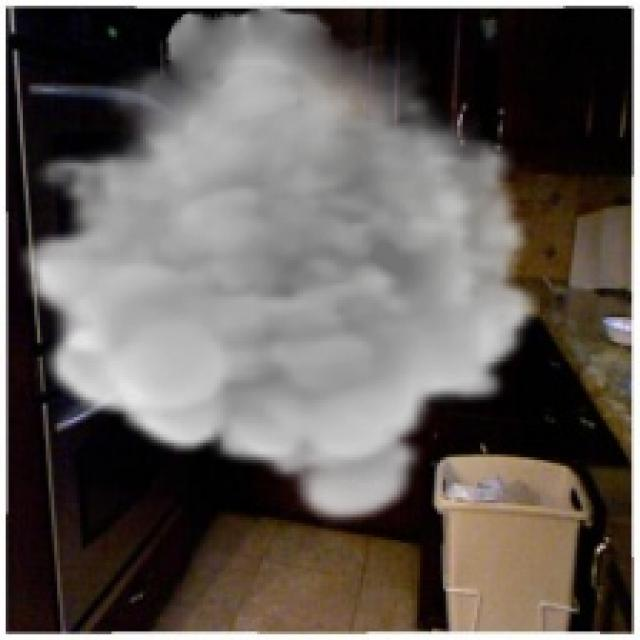smoke: (17, 3, 540, 528)
